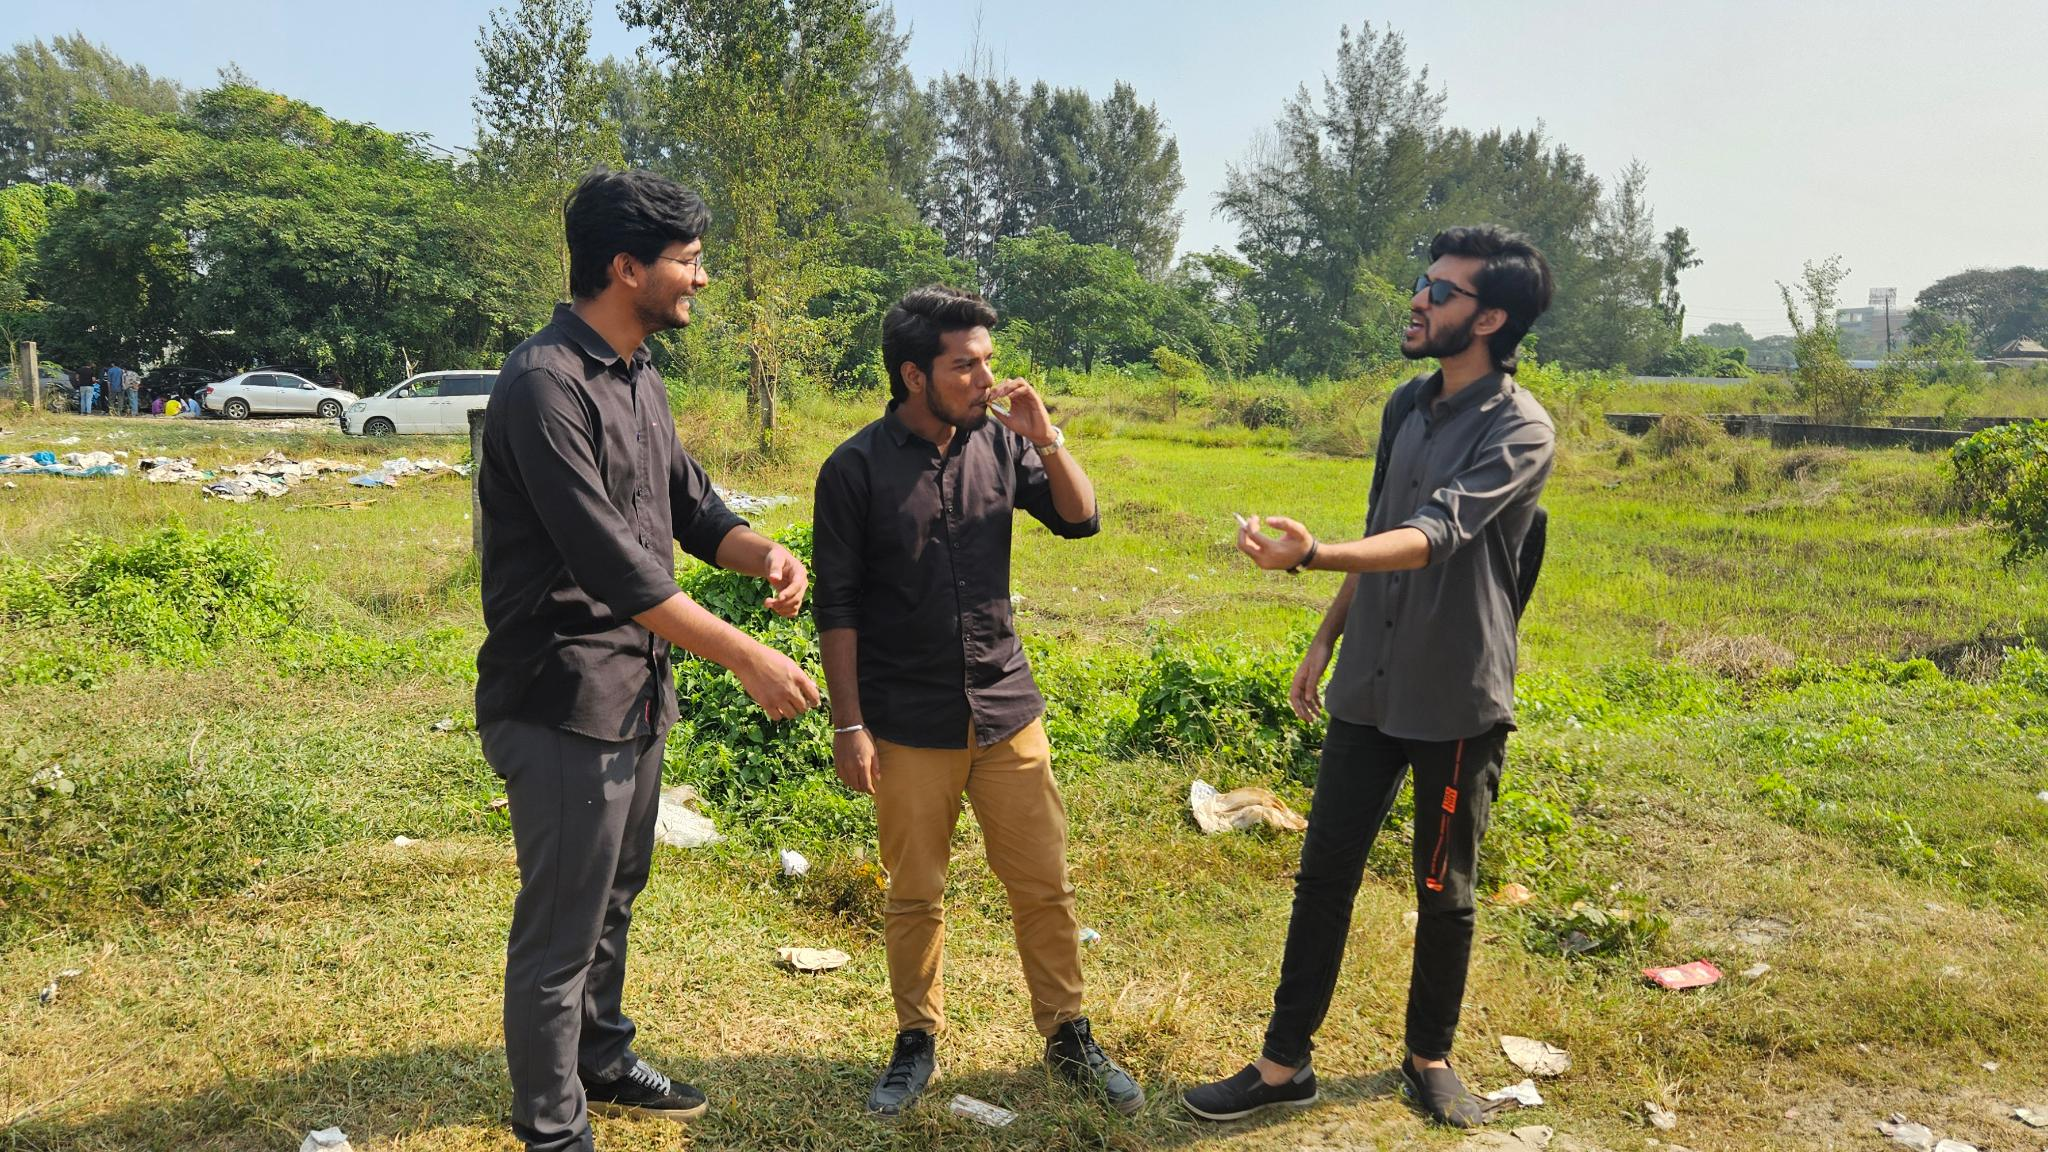cigarette: (983, 399, 1013, 421), (1229, 509, 1250, 533)
nonSmoker: (475, 172, 820, 1152)
smoker: (1182, 224, 1556, 1135), (807, 286, 1145, 1118)
